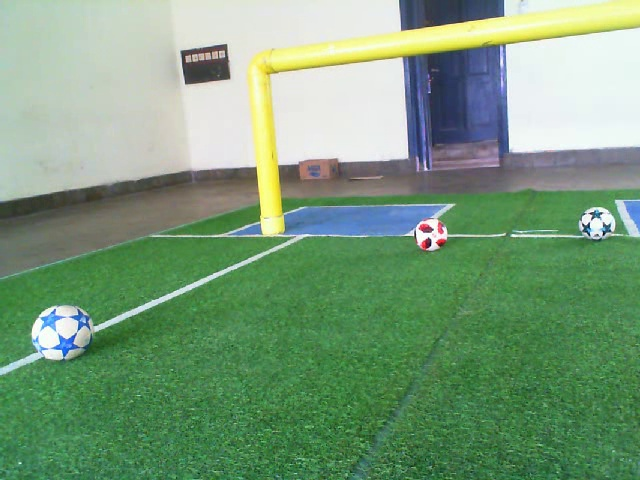ball: (29, 302, 97, 363), (576, 205, 618, 243), (413, 216, 449, 253)
